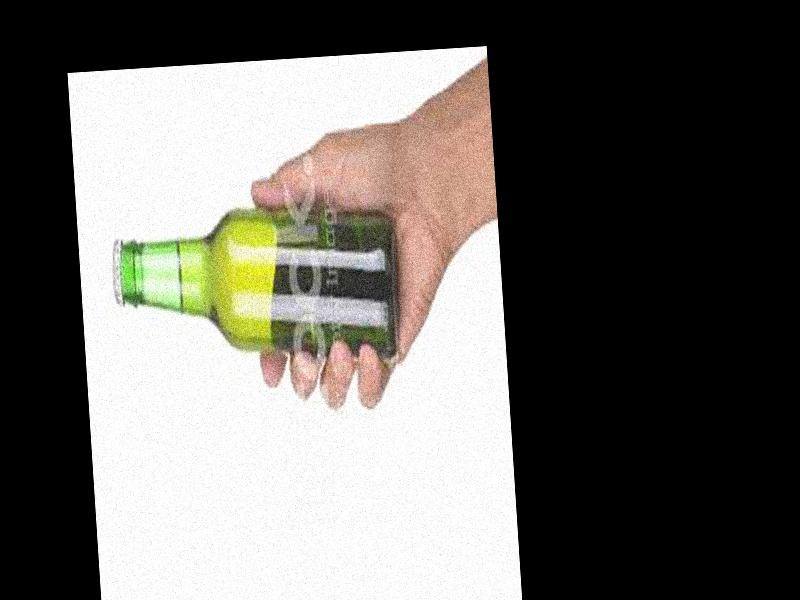Beer: (108, 196, 401, 366)
